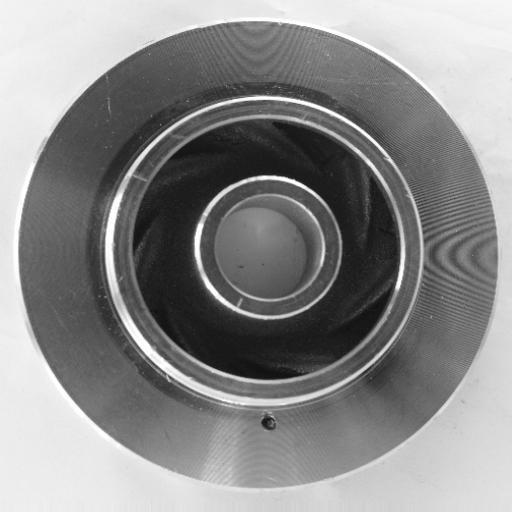pit: (253, 405, 291, 438)
unpolished_casting: (19, 20, 498, 491)
